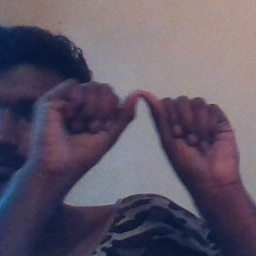A: (73, 74, 217, 178)
